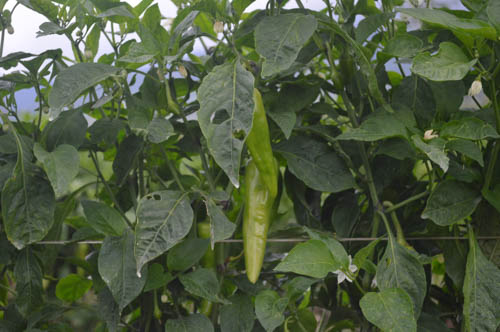ChiliPepper: (238, 162, 279, 290), (235, 91, 278, 196), (196, 219, 221, 318)
